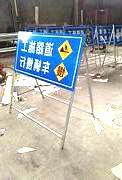sign: (15, 34, 77, 86)
